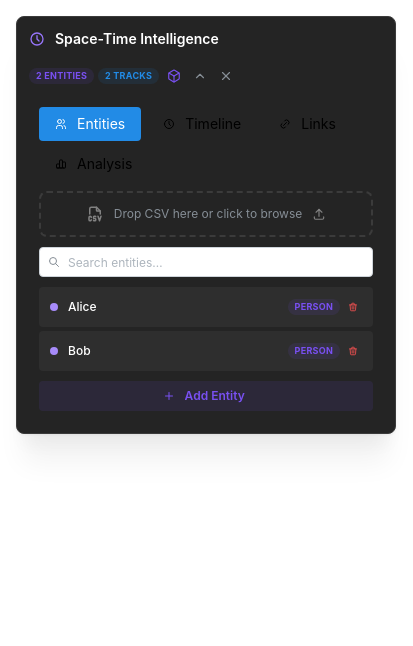
Test: Analysis tab buttons › runs co-travel and lists its run
Click the tab "Analysis" at x=94, y=164, box x1=39 y1=147 x2=148 y2=181
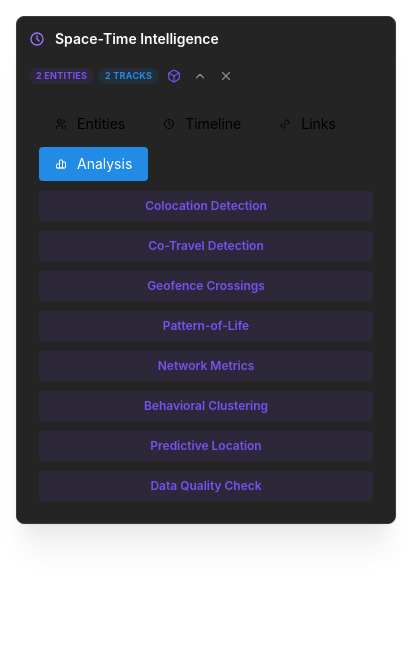
Expected: the button "Colocation Detection" is shown, x1=39 y1=191 x2=373 y2=221
Click the button "Co-Travel Detection" at x=206, y=246, box x1=39 y1=231 x2=373 y2=261
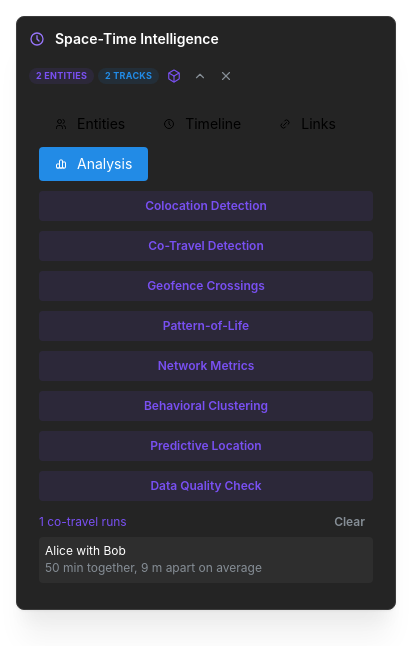
Expected: the text "1 co-travel runs" is shown, x1=39 y1=514 x2=127 y2=531
Expected: the text "Alice with Bob" is shown, x1=45 y1=543 x2=126 y2=558
